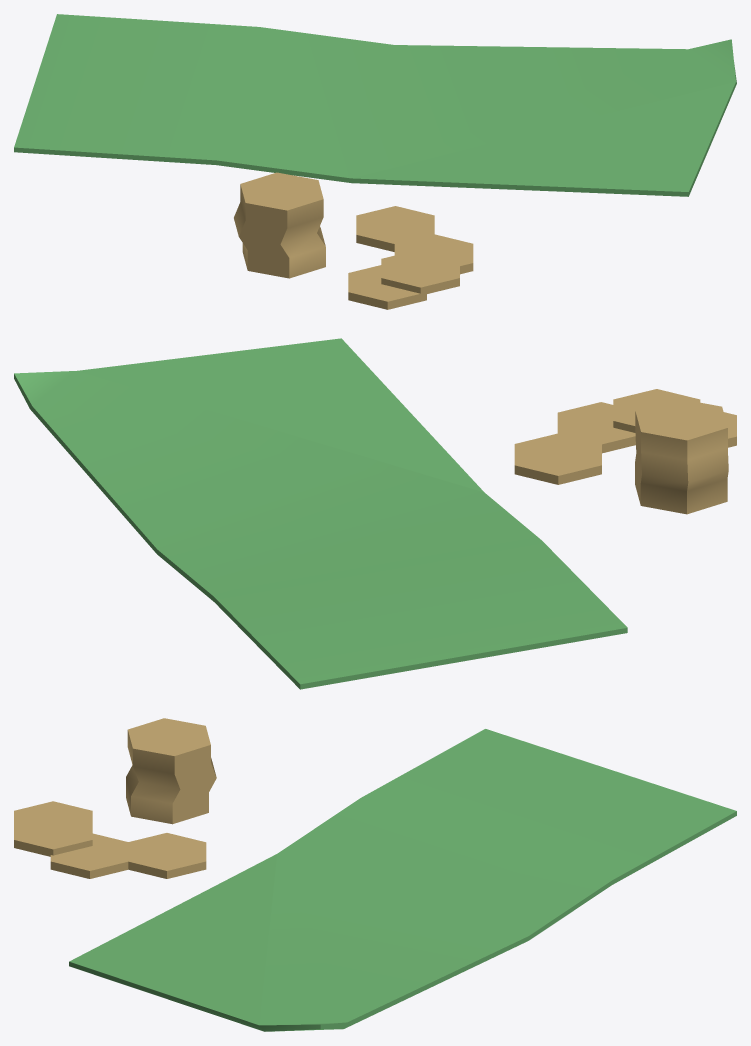
The model's file is money1 1.fbx.
3 views of the same model, one above another, from view 1: azimuth 30°, elevation 25°; view 2: azimuth 150°, elevation 25°; view 3: azimuth 270°, elevation 25° (orthographic). The views are drawn at different scales.
Visible parts, largest first — view 1: pCube1, pCylinder3, pCylinder6, pCylinder2, pCylinder5, pCylinder4; view 2: pCube1, pCylinder3, pCylinder2, pCylinder4, pCylinder6; view 3: pCube1, pCylinder3, pCylinder2, pCylinder6, pCylinder4, pCylinder5.
Part boxes in pixels (x1,y1,x2,y2): pCube1: [14, 14, 736, 196]; pCylinder3: [234, 172, 325, 278]; pCylinder6: [381, 249, 459, 293]; pCylinder2: [356, 206, 434, 251]; pCylinder5: [348, 265, 426, 309]; pCylinder4: [394, 234, 473, 274]; pCube1: [14, 338, 627, 689]; pCylinder3: [635, 398, 728, 514]; pCylinder2: [514, 433, 601, 484]; pCylinder4: [557, 402, 635, 453]; pCylinder6: [613, 389, 700, 432]; pCube1: [69, 729, 736, 1031]; pCylinder3: [126, 718, 216, 824]; pCylinder2: [127, 833, 206, 878]; pCylinder6: [14, 811, 92, 856]; pCylinder4: [50, 833, 128, 878]; pCylinder5: [14, 801, 92, 820].
Bounding box in the file's own units: 16.16 × 1.66 × 15.95.
